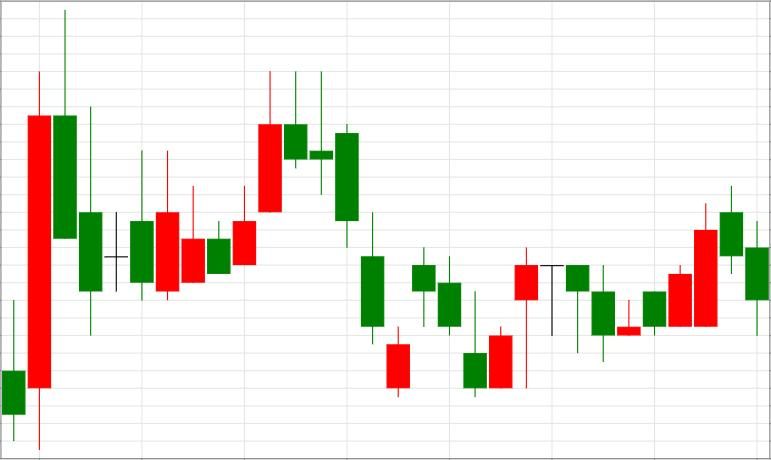inverse_hammer_rise: (284, 70, 486, 397)
shooting_star_fall: (156, 71, 308, 300)
